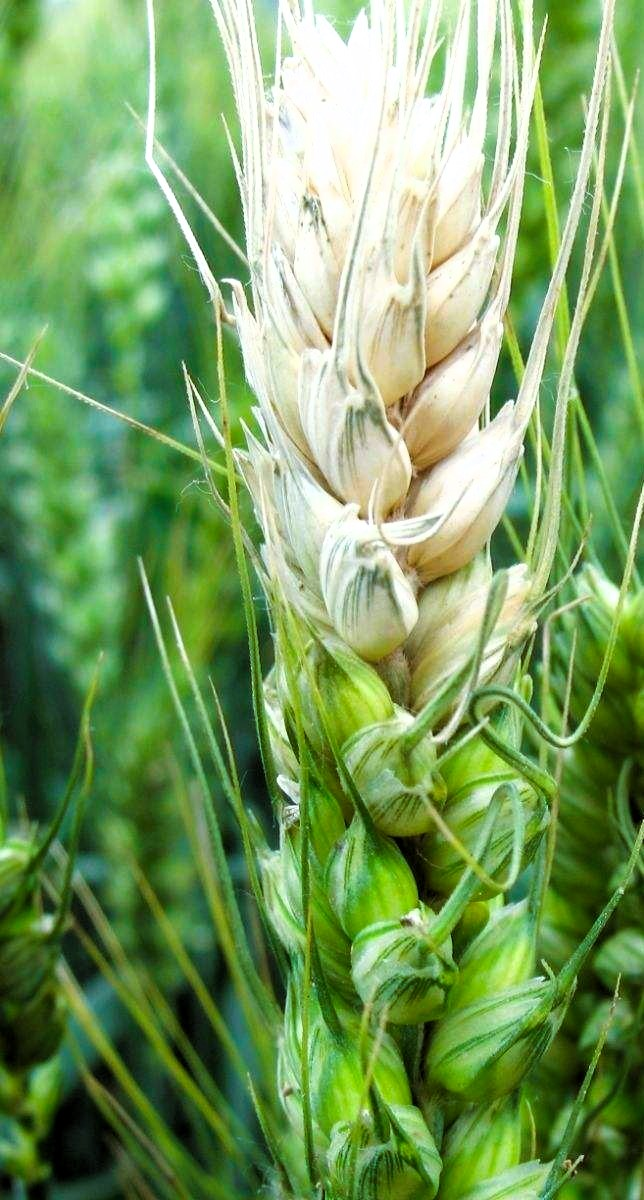Wheat scab: (225, 19, 576, 1200)
